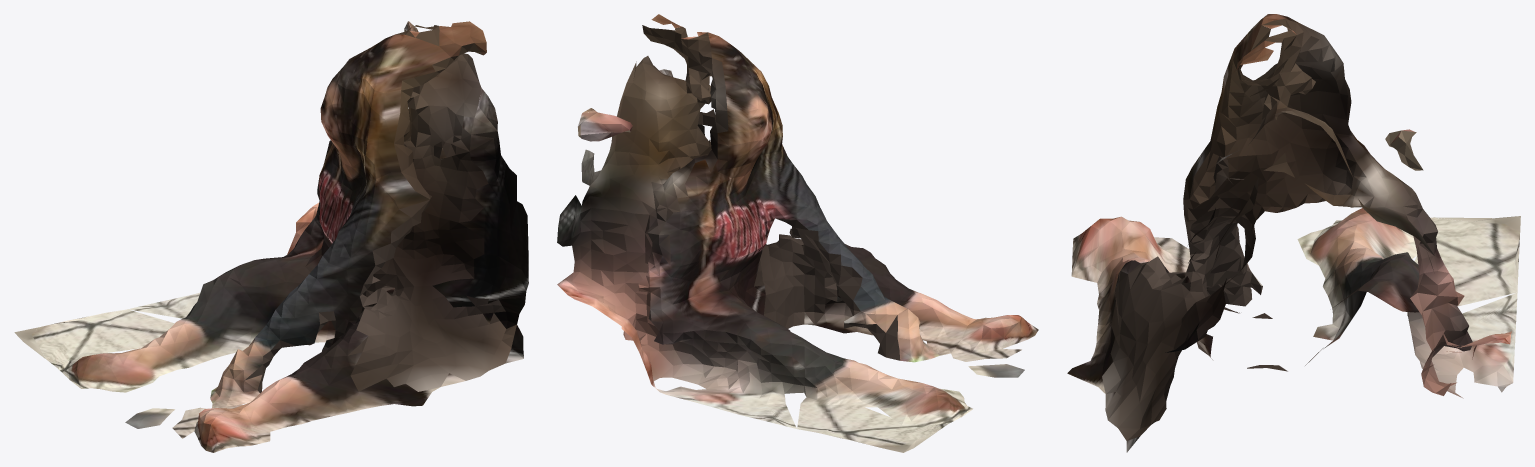
The picture shows the model from 3 angles, left to right: view 1: azimuth 30°, elevation 25°; view 2: azimuth 150°, elevation 25°; view 3: azimuth 270°, elevation 25°; orthographic projection. The views are drawn at different scales.
Bounding box in the file's own units: 1.07 × 0.8249 × 0.8648.
1 material, 1 textured.
